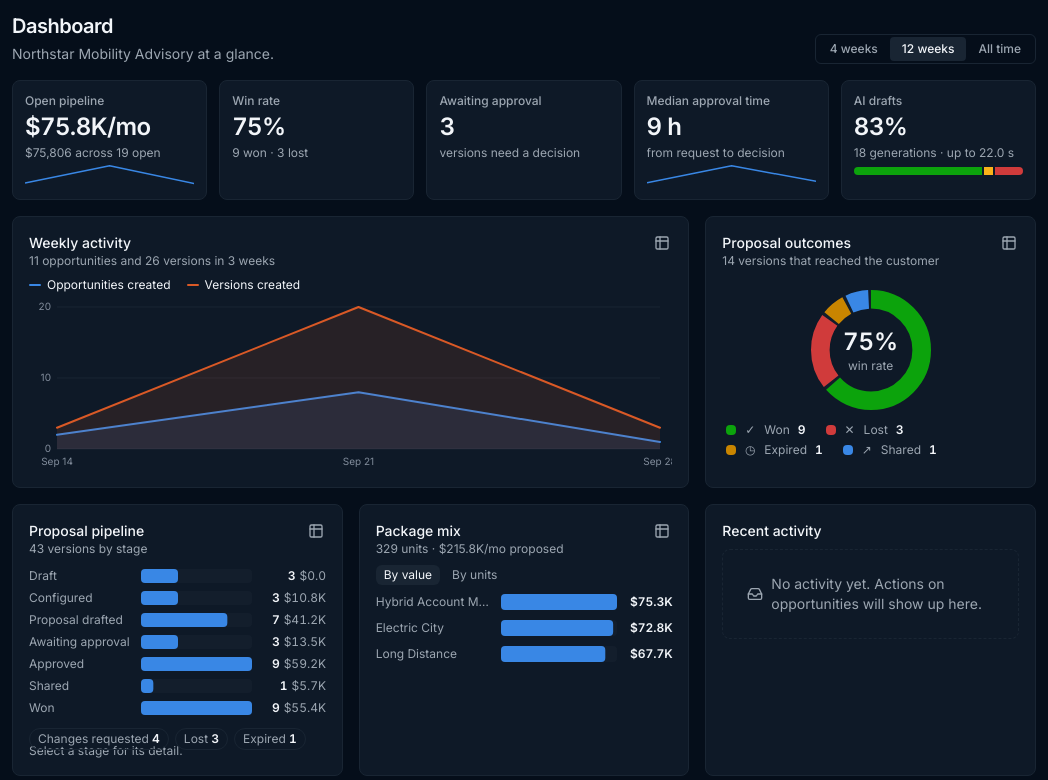
Test: DashboardPage › refetches every chart when the time range changes
Check: the link with aria-label "Awaiting approval: 3" is shown, box [426, 80, 622, 200]
Step 1. Click the button "4 weeks" → point(854, 49), box [818, 37, 890, 61]
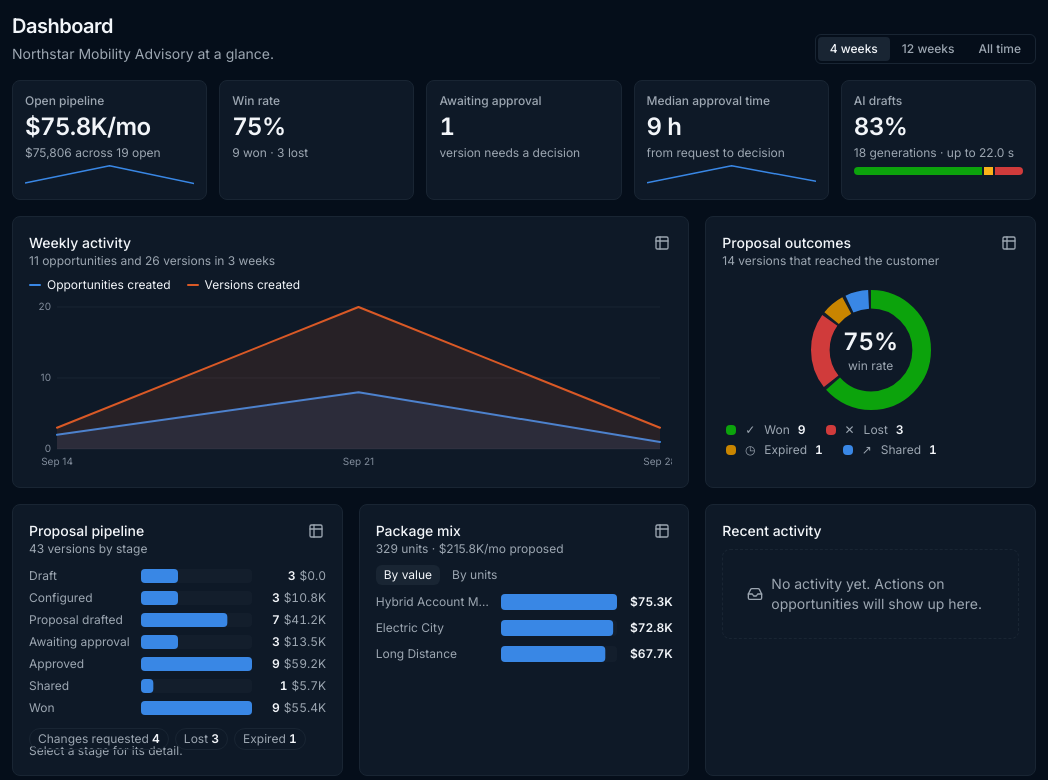
Check: the link with aria-label "Awaiting approval: 1" is shown, box [426, 80, 622, 200]
